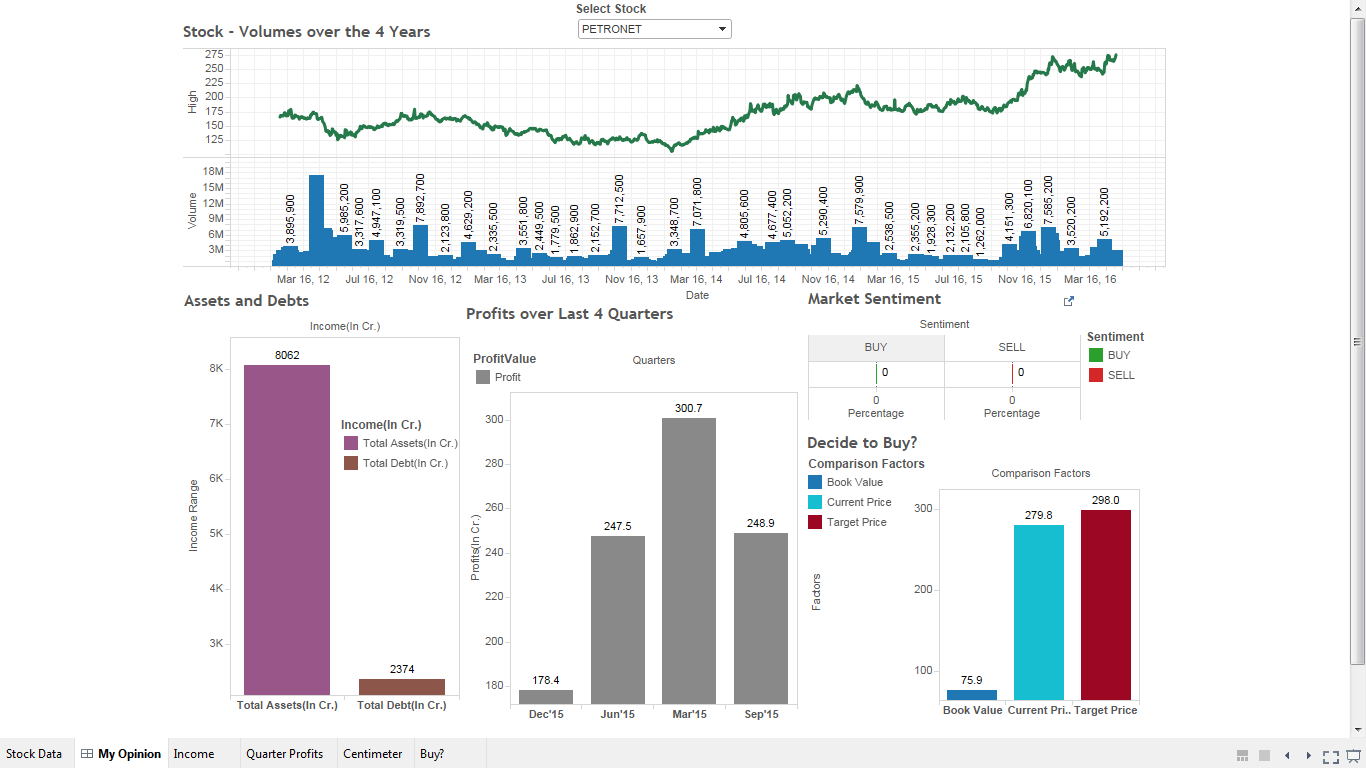

Layout of this report page (visuals, bound fields, positions):
{"tool":"tableau","page":{"name":"My Opinion","canvas":[1000,800],"ordinal":0},"visuals":[{"type":"parameter","param":"[Parameters].[Parameter 1]","box":[401,2,160,43]},{"type":"worksheet","title":"Stock Data","mark":"Bar","rows":["High","Volume"],"cols":["Date"],"box":[9,22,983,284]},{"type":"worksheet","title":"Centimeter","mark":"Bar","cols":[" Sentiment"," Percentage"],"box":[634,289,274,145]},{"type":"worksheet","title":"Income","mark":"Bar","rows":[" Income Range"],"cols":["Income(In Cr.)"],"box":[10,291,276,445]},{"type":"worksheet","title":"Quarter Profits","mark":"Bar","rows":["Profits(In Cr.)"],"cols":["Quarters"],"box":[292,304,332,429]},{"type":"legend","title":"Centimeter","param":"[textscan.0sdcy60105732b19emje70akta7o].[none: Sentiment:nk]","box":[912,330,82,55]},{"type":"legend","title":"Quarter Profits","param":"[textscan.0sdcy60105732b19emje70akta7o].[none:Calculation_844706416155447297:nk]","box":[299,352,140,55]},{"type":"legend","title":"Income","param":"[textscan.0sdcy60105732b19emje70akta7o].[none:Income(In Cr.):nk]","box":[167,418,140,55]},{"type":"worksheet","title":"Buy?","mark":"Bar","rows":[" Factors"],"cols":[" Comparison Factors"],"box":[633,433,333,285]},{"type":"legend","title":"Buy?","param":"[textscan.0sdcy60105732b19emje70akta7o].[none: Comparison Factors:nk]","box":[631,457,130,83]}]}

Visuals, with their boxes in screenshot pixels (x1, y1, x2, y2):
"Stock Data" worksheet (Bar marks): crop(0, 0, 957, 262)
"Centimeter" worksheet (Bar marks): crop(592, 244, 871, 392)
"Income" worksheet (Bar marks): crop(0, 246, 238, 700)
"Quarter Profits" worksheet (Bar marks): crop(244, 260, 582, 696)
"Centimeter" legend: crop(875, 286, 959, 342)
"Quarter Profits" legend: crop(251, 309, 394, 365)
"Income" legend: crop(117, 376, 259, 432)
"Buy?" worksheet (Bar marks): crop(591, 391, 930, 681)
"Buy?" legend: crop(589, 415, 721, 500)
